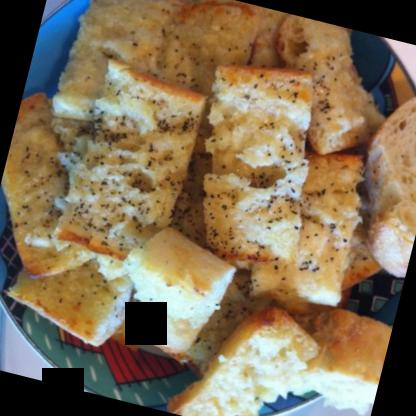toast bread: (166, 53, 340, 284), (55, 64, 213, 283), (0, 89, 132, 298), (5, 194, 148, 356), (237, 143, 371, 315), (110, 224, 234, 369), (333, 76, 415, 282), (183, 294, 321, 415), (288, 297, 395, 415)
